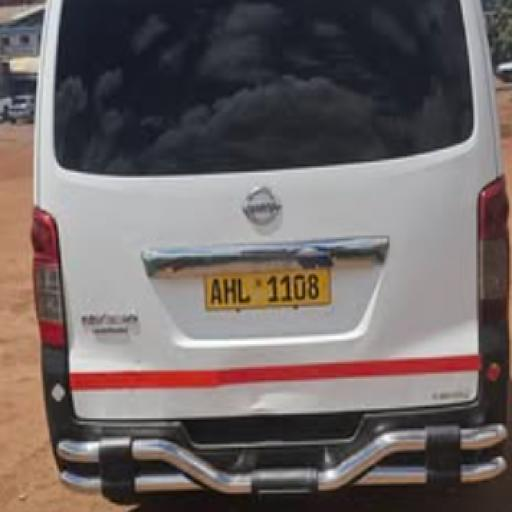number-plates: (202, 272, 330, 310)
